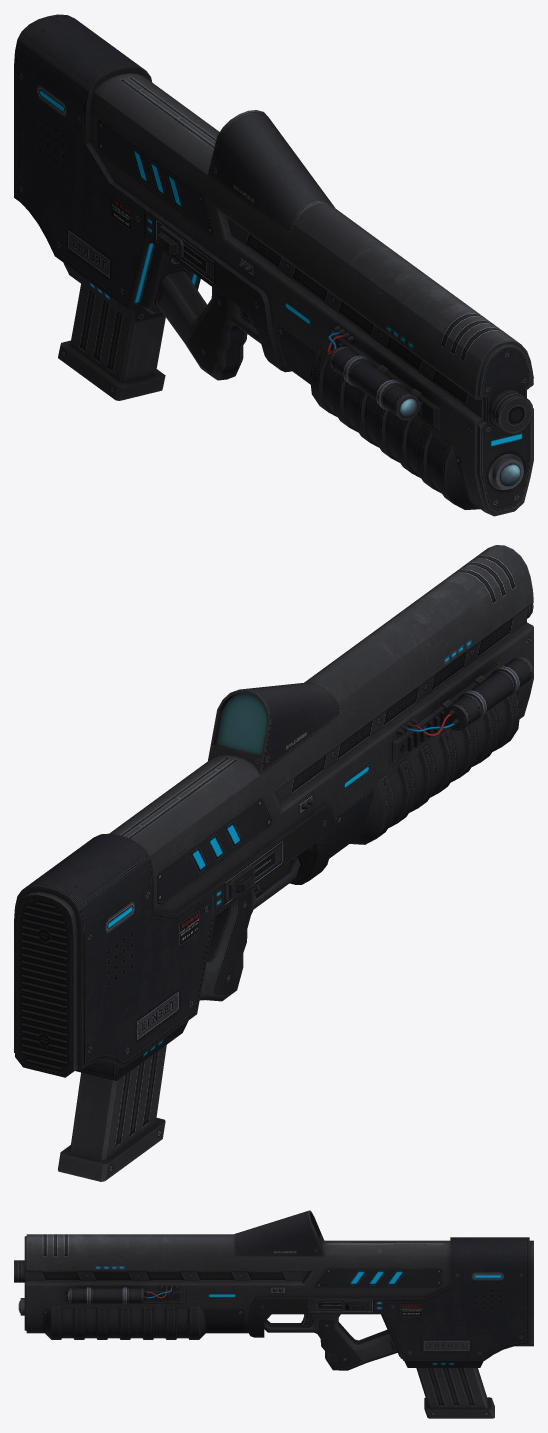
File: trek13shotgun.dae
3 renders of one model, top to bottom at view 1: azimuth 30°, elevation 25°; view 2: azimuth 150°, elevation 25°; view 3: azimuth 270°, elevation 25°, orthographic. The views are drawn at different scales.
Visible parts, largest first — view 1: TREK-13 Automatic Shotgun; view 2: TREK-13 Automatic Shotgun, TREK-13 Automatic Shotgun Screen; view 3: TREK-13 Automatic Shotgun.
Boxes of the visible parts, <box> form: TREK-13 Automatic Shotgun: <box>14,14,533,516</box>; TREK-13 Automatic Shotgun: <box>14,545,533,1181</box>; TREK-13 Automatic Shotgun Screen: <box>216,693,267,755</box>; TREK-13 Automatic Shotgun: <box>14,1210,533,1418</box>.
Bounding box in the file's own units: 0.8308 × 4.83 × 2.05.
Materials: 2 (2 with a texture image).
